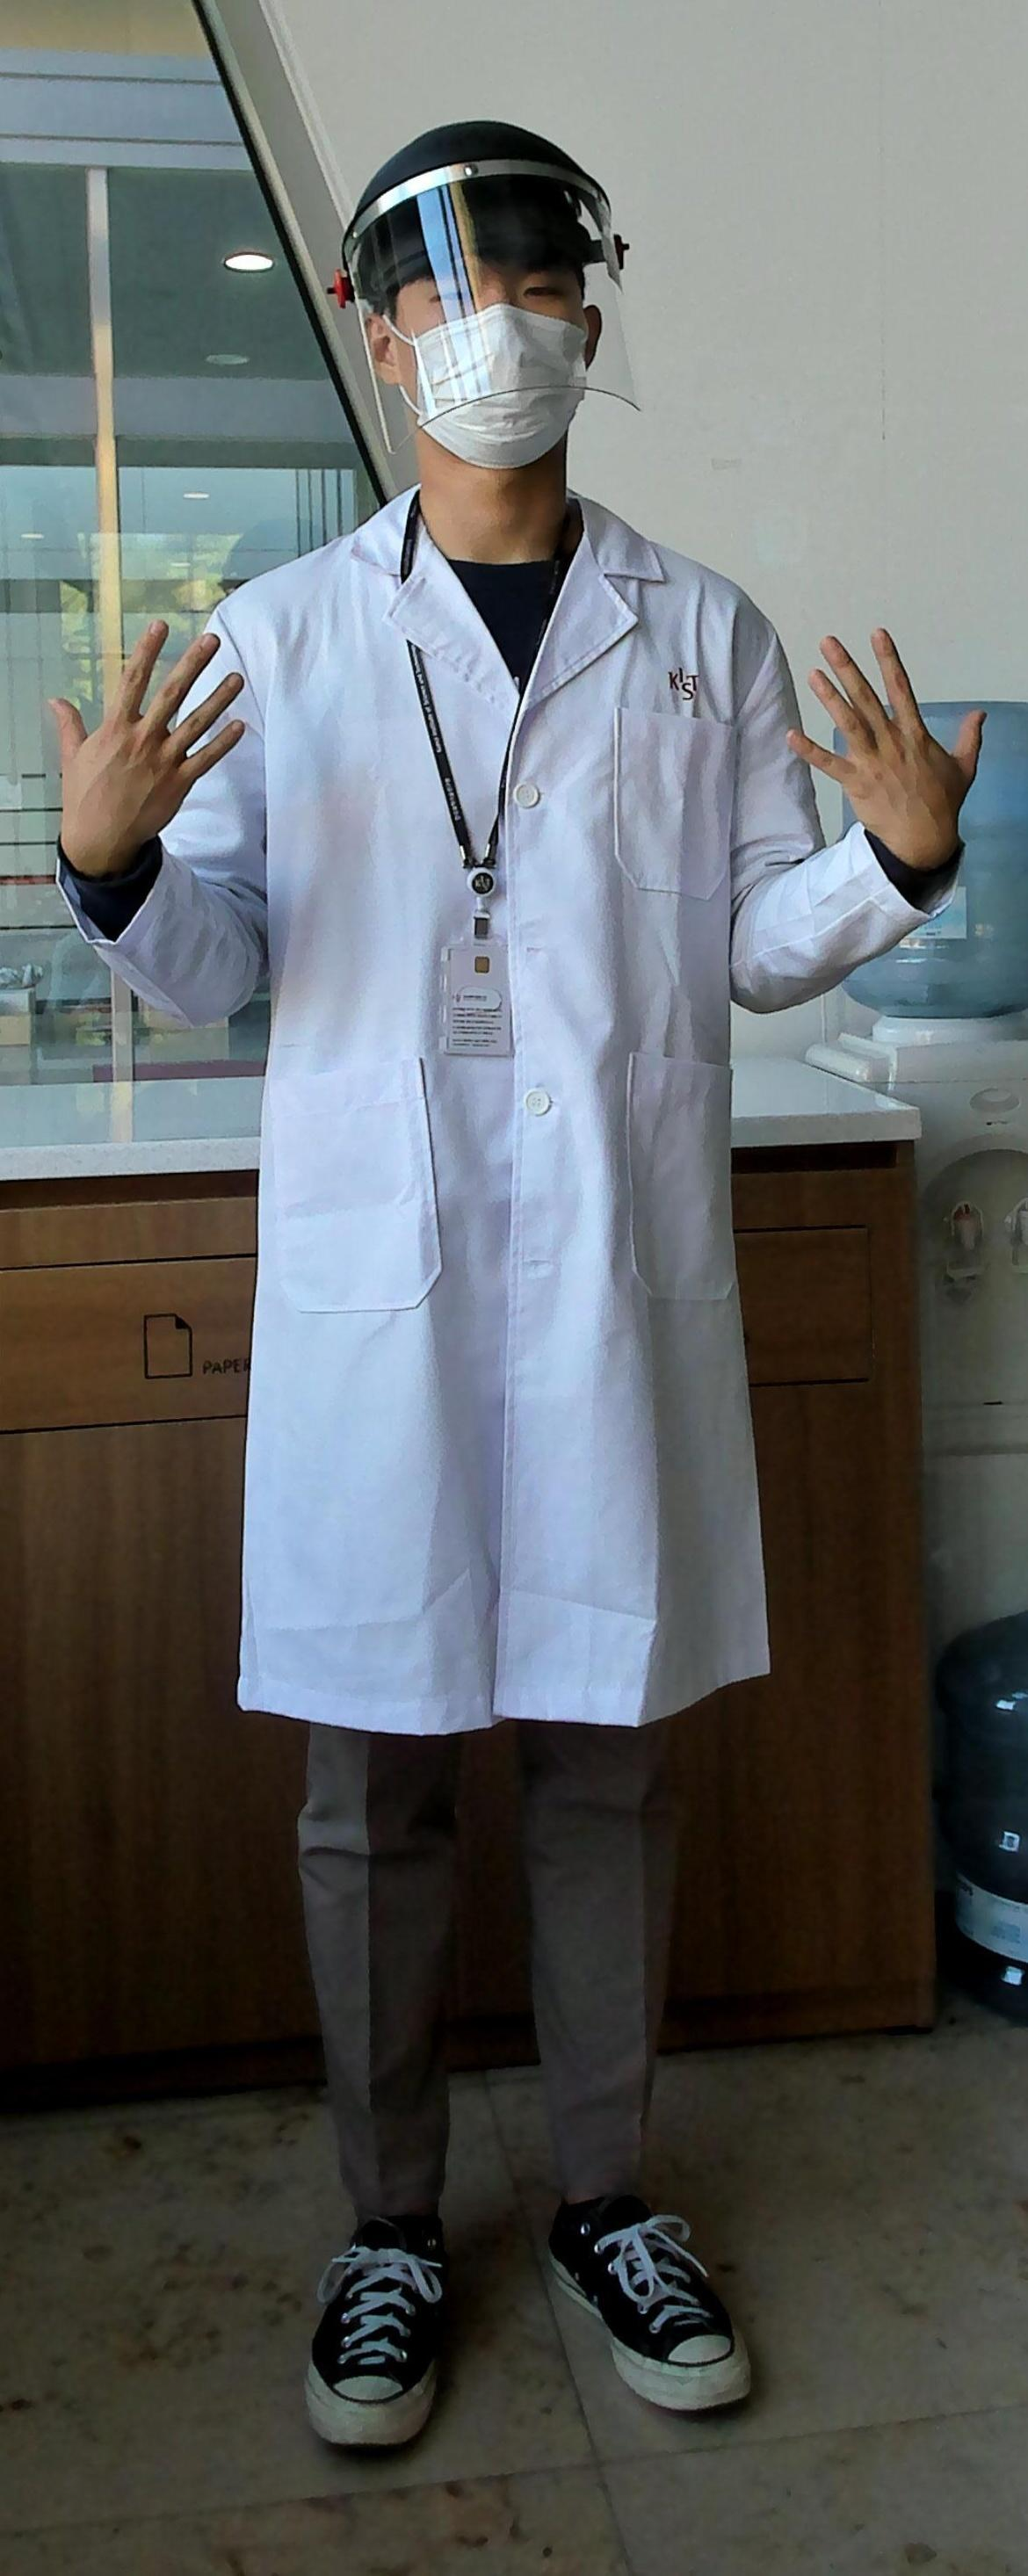lab_coat: (232, 590, 778, 1676)
